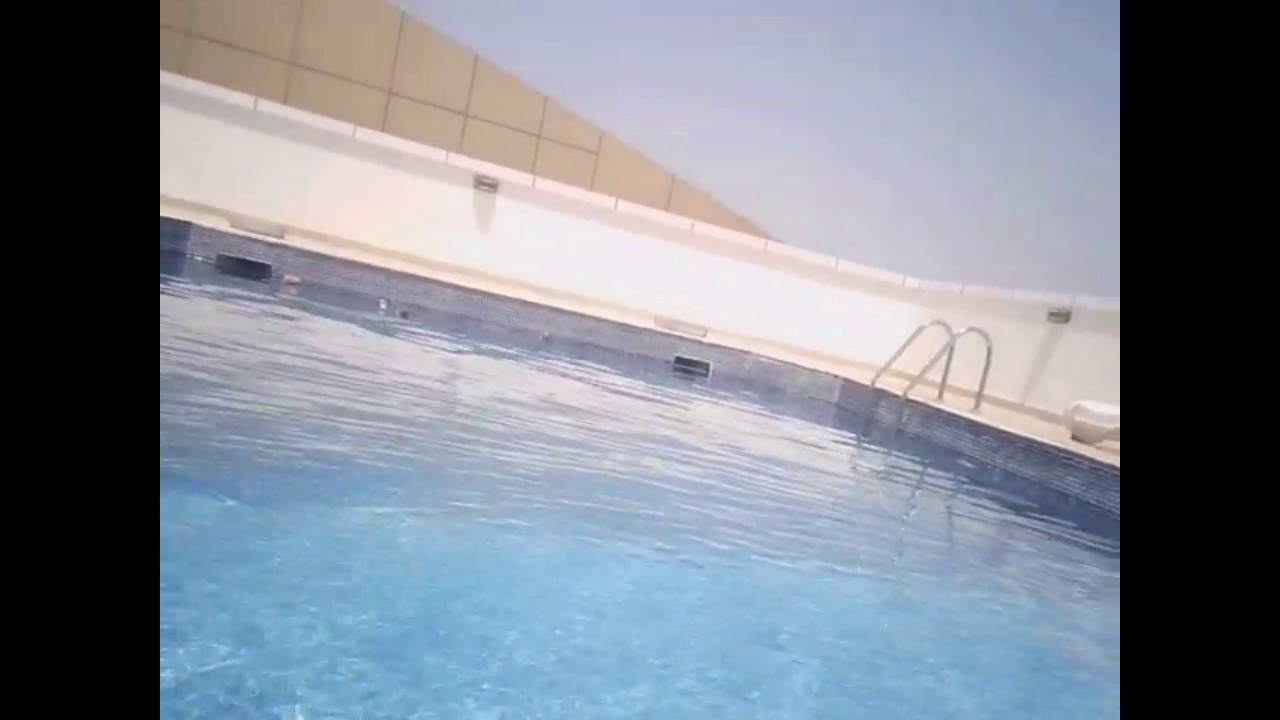debris: (280, 270, 302, 287), (374, 292, 392, 311), (394, 305, 410, 321), (538, 327, 550, 339)
